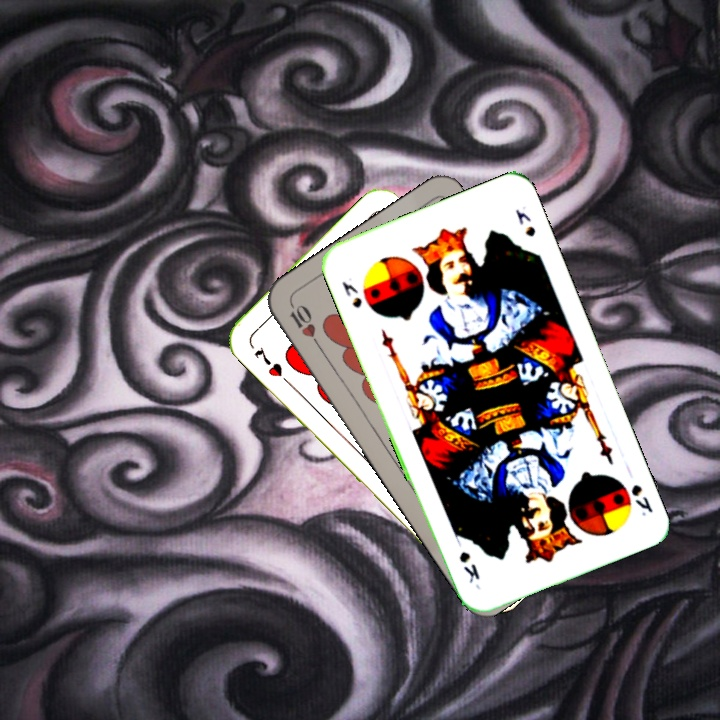H10: (285, 300, 324, 352)
H7: (250, 342, 285, 379)
SK: (627, 480, 656, 519), (338, 277, 365, 311)
